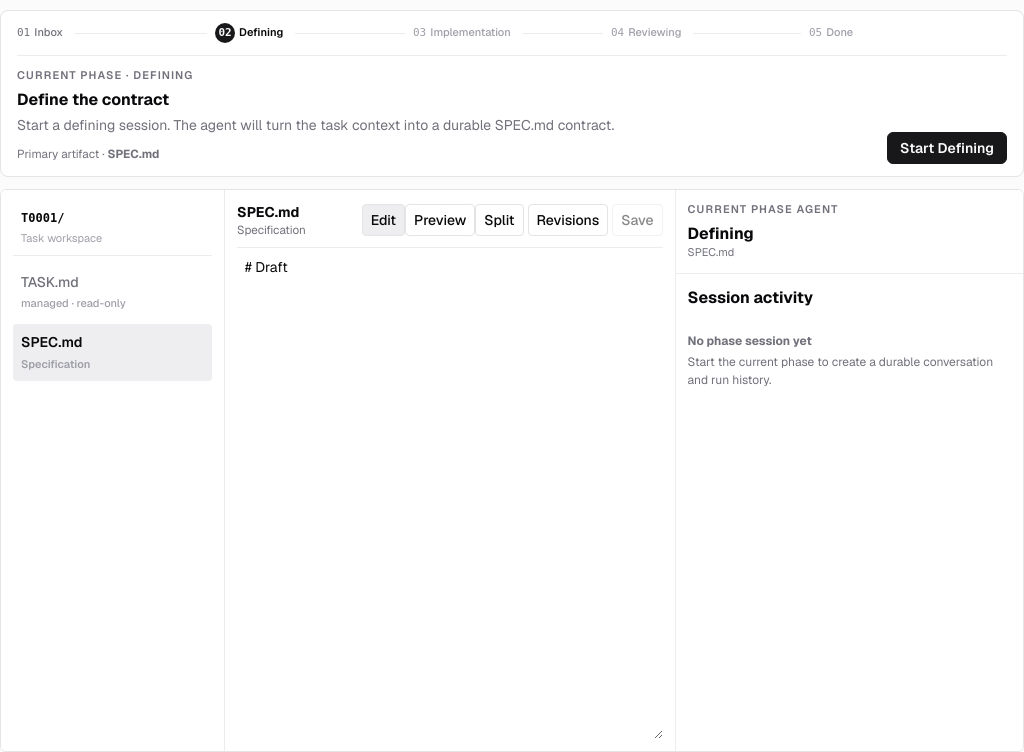
Test: revision restore refuses to overwrite a dirty draft
(page scrolled)
Type " changed" into the text box named "Markdown document" at {"x": 450, "y": 494}, box [237,248,662,739]
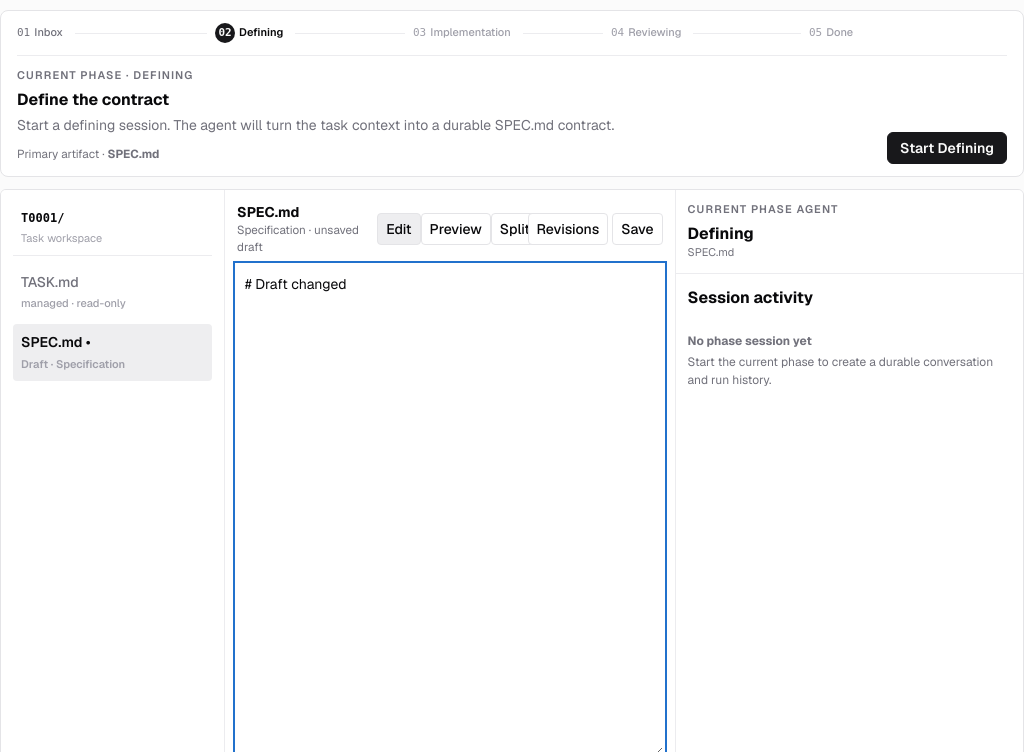
Click the button "Revisions" at {"x": 568, "y": 229}, box [528,213,608,245]
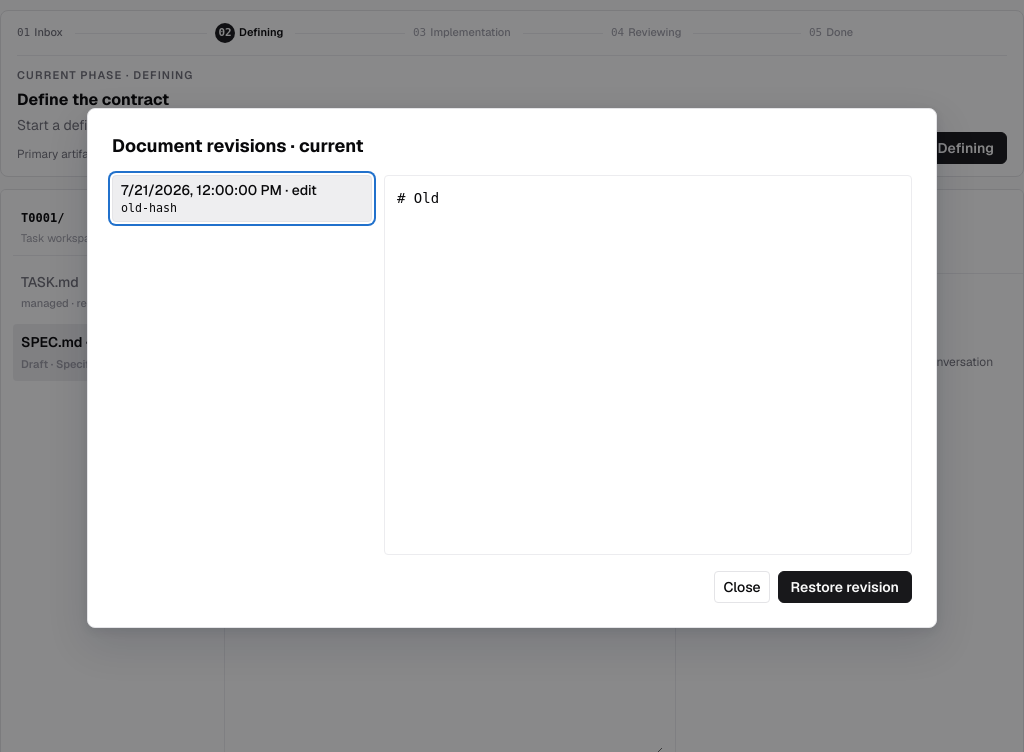
Click the button "Restore revision" at {"x": 845, "y": 587}, box [778,571,912,603]
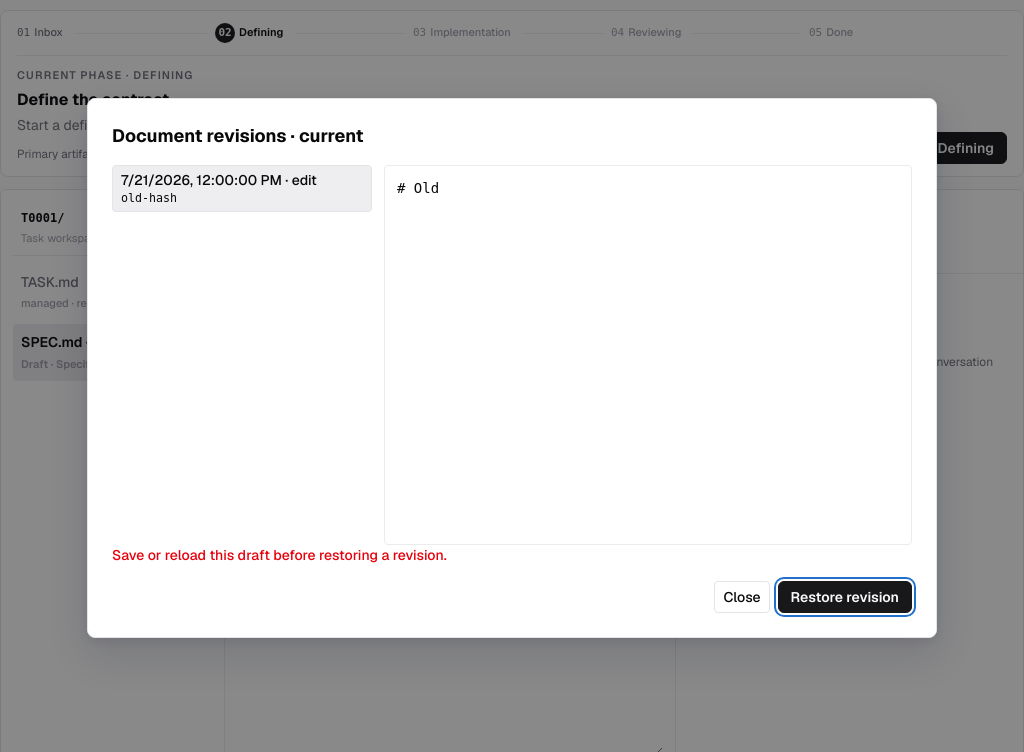
Now the text "Save or reload this draft before restoring a revision." is shown, box [112,546,447,564]
